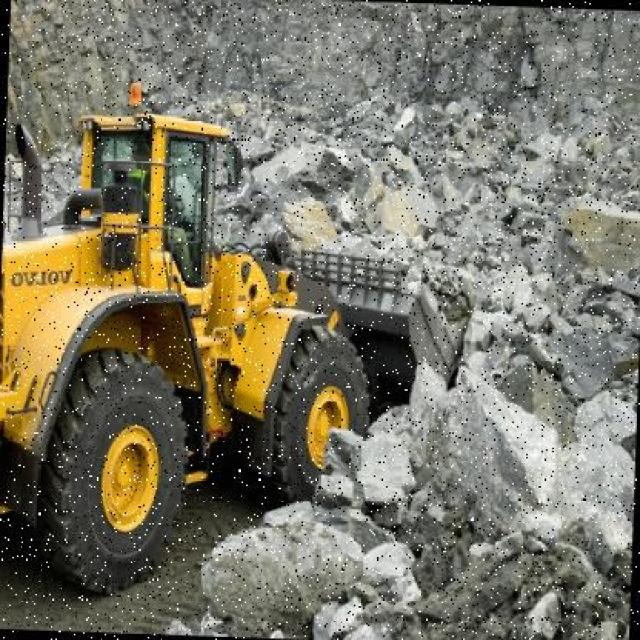buldozerpayloadergrader: (0, 98, 472, 601)
